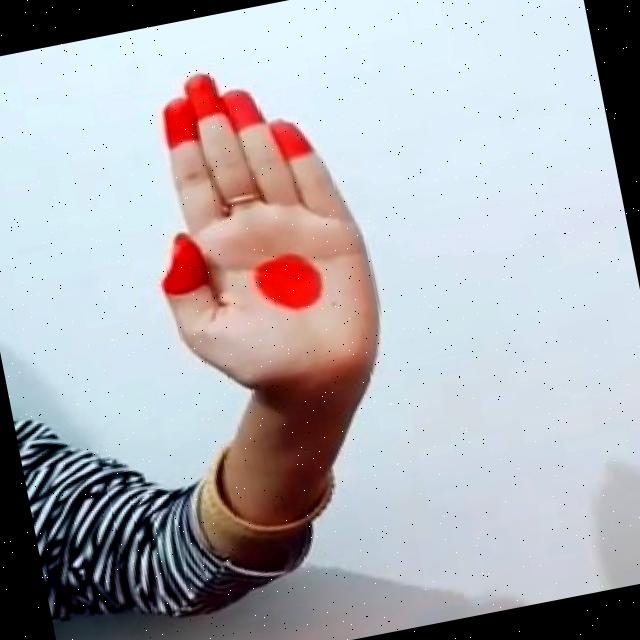Pataka: (105, 14, 396, 428)
bangle: (176, 416, 381, 558)
